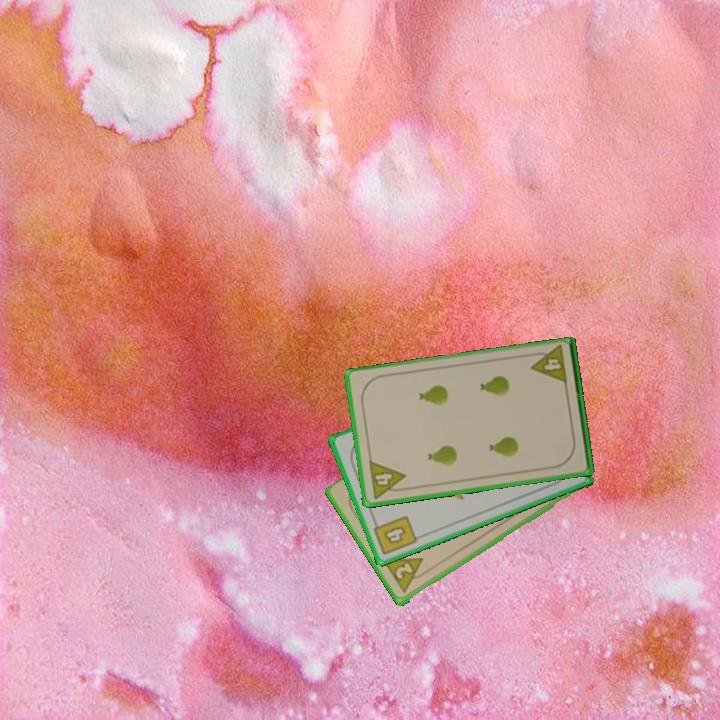2p: (380, 554, 432, 596)
4b: (369, 512, 420, 558)
4p: (365, 457, 410, 502), (526, 343, 570, 387)
